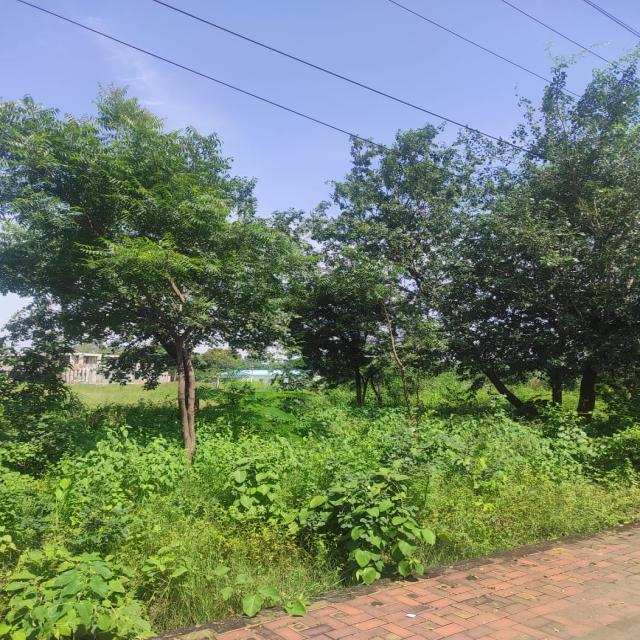Devakanchan tree: (420, 117, 628, 393)
Neem Tree: (18, 57, 299, 472)
